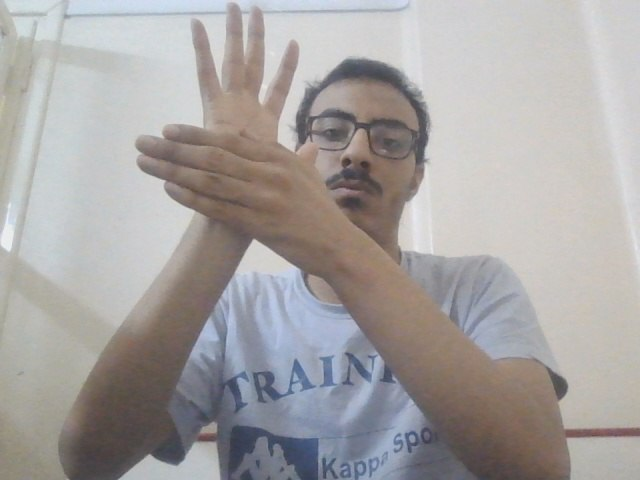Movie: (130, 1, 353, 281)
